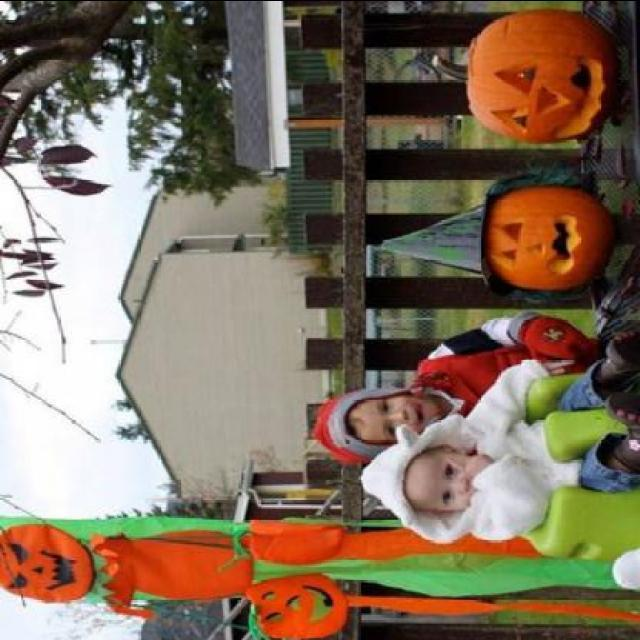Pumpkin: (462, 11, 622, 146), (483, 183, 611, 289)
